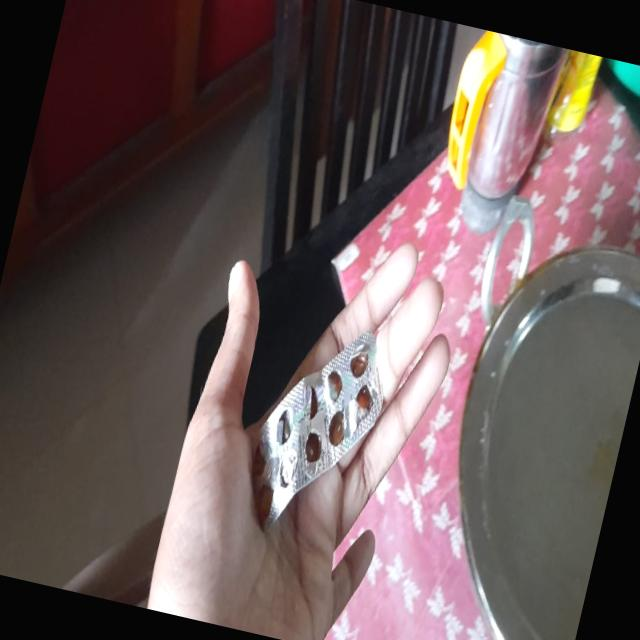Blister_Packs - Non Recyclable: (234, 307, 400, 553)
